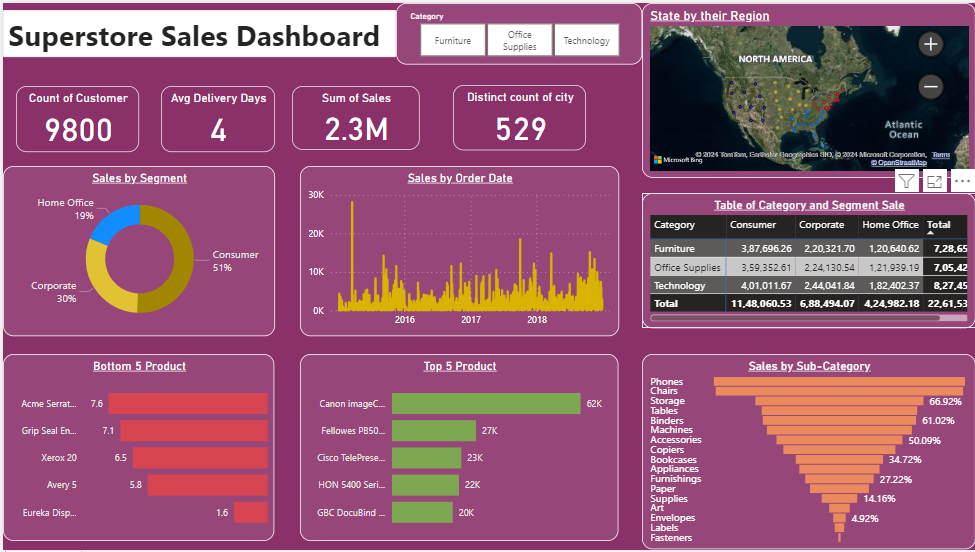

What the dashboard file says about the page in this screenshot:
{"tool":"powerbi","page":{"name":"Page 1","canvas":[1280,720],"ordinal":0},"visuals":[{"type":"card","title":"Count of Customer","fields":{"Values":["CountNonNull(train.Row ID)"]},"box":[16.5,108.7,162.4,86.7],"z":0},{"type":"card","title":"Avg Delivery Days","fields":{"Values":["Avg(train.Days of delivery)"]},"box":[207.8,108.7,159.7,86.7],"z":1000},{"type":"donutChart","title":"Sales by Segment","fields":{"Y":["Sum(train.Sales)"],"Category":["train.Segment"]},"box":[0,214.7,357.8,224.3],"z":2000},{"type":"map","title":"State by their Region","fields":{"Category":["train.State"],"Series":["train.Region"]},"box":[840.9,0,439.1,229.8],"z":3000},{"type":"clusteredBarChart","title":"Top 5 Product","fields":{"Y":["Sum(train.Sales)"],"Category":["train.Product Name"]},"box":[391,461.9,419.4,246.5],"z":4000},{"type":"clusteredBarChart","title":"Bottom 5 Product ","fields":{"Y":["Sum(train.Sales)"],"Category":["train.Product Name"]},"box":[0,461.9,357.4,246.5],"z":5000},{"type":"card","title":"Distinct count of city","fields":{"Values":["Count(train.City)"]},"box":[592.3,108.4,175.5,86.5],"z":6000},{"type":"slicer","fields":{"Values":["train.Category"]},"box":[517.4,0,323.9,81.3],"z":7000},{"type":"textbox","box":[0,9,517.4,61.9],"z":8000},{"type":"pivotTable","title":"Table of Category and  Segment Sale","fields":{"Rows":["train.Category"],"Columns":["train.Segment"],"Values":["Sum(train.Sales)"]},"box":[840.9,250.5,439.1,177.5],"z":9000},{"type":"funnel","title":" Sales by Sub-Category","fields":{"Category":["train.Sub-Category"],"Y":["Sum(train.Sales)"]},"box":[840.9,462.5,439.1,257.4],"z":10000},{"type":"card","title":"Sum of Sales","fields":{"Values":["Sum(train.Sales)"]},"box":[379.9,108.7,167.9,84],"z":11000},{"type":"lineChart","title":" Sales by Order Date","fields":{"Category":["train.Order Date"],"Y":["Sum(train.Sales)"]},"box":[390.9,214.7,419.8,224.3],"z":12000}]}

Visuals, with their boxes in screenshot pixels (x1, y1, x2, y2), scaled from the page's 1280x720 canvas onto the 975x552 screenshot:
"Count of Customer" card: <bbox>13, 83, 136, 150</bbox>
"Avg Delivery Days" card: <bbox>158, 83, 280, 150</bbox>
"Sales by Segment" donutChart: <bbox>0, 165, 273, 337</bbox>
"State by their Region" map: <bbox>641, 0, 974, 176</bbox>
"Top 5 Product" clusteredBarChart: <bbox>298, 354, 617, 543</bbox>
"Bottom 5 Product " clusteredBarChart: <bbox>0, 354, 272, 543</bbox>
"Distinct count of city" card: <bbox>451, 83, 585, 149</bbox>
slicer - train.Category: <bbox>394, 0, 641, 62</bbox>
textbox: <bbox>0, 7, 394, 54</bbox>
"Table of Category and  Segment Sale" pivotTable: <bbox>641, 192, 974, 328</bbox>
" Sales by Sub-Category" funnel: <bbox>641, 355, 974, 551</bbox>
"Sum of Sales" card: <bbox>289, 83, 417, 148</bbox>
" Sales by Order Date" lineChart: <bbox>298, 165, 618, 337</bbox>
